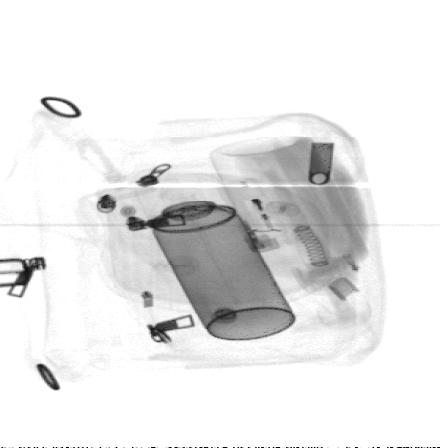Lighter: (217, 180, 292, 255)
Sprayer: (130, 167, 295, 340)
